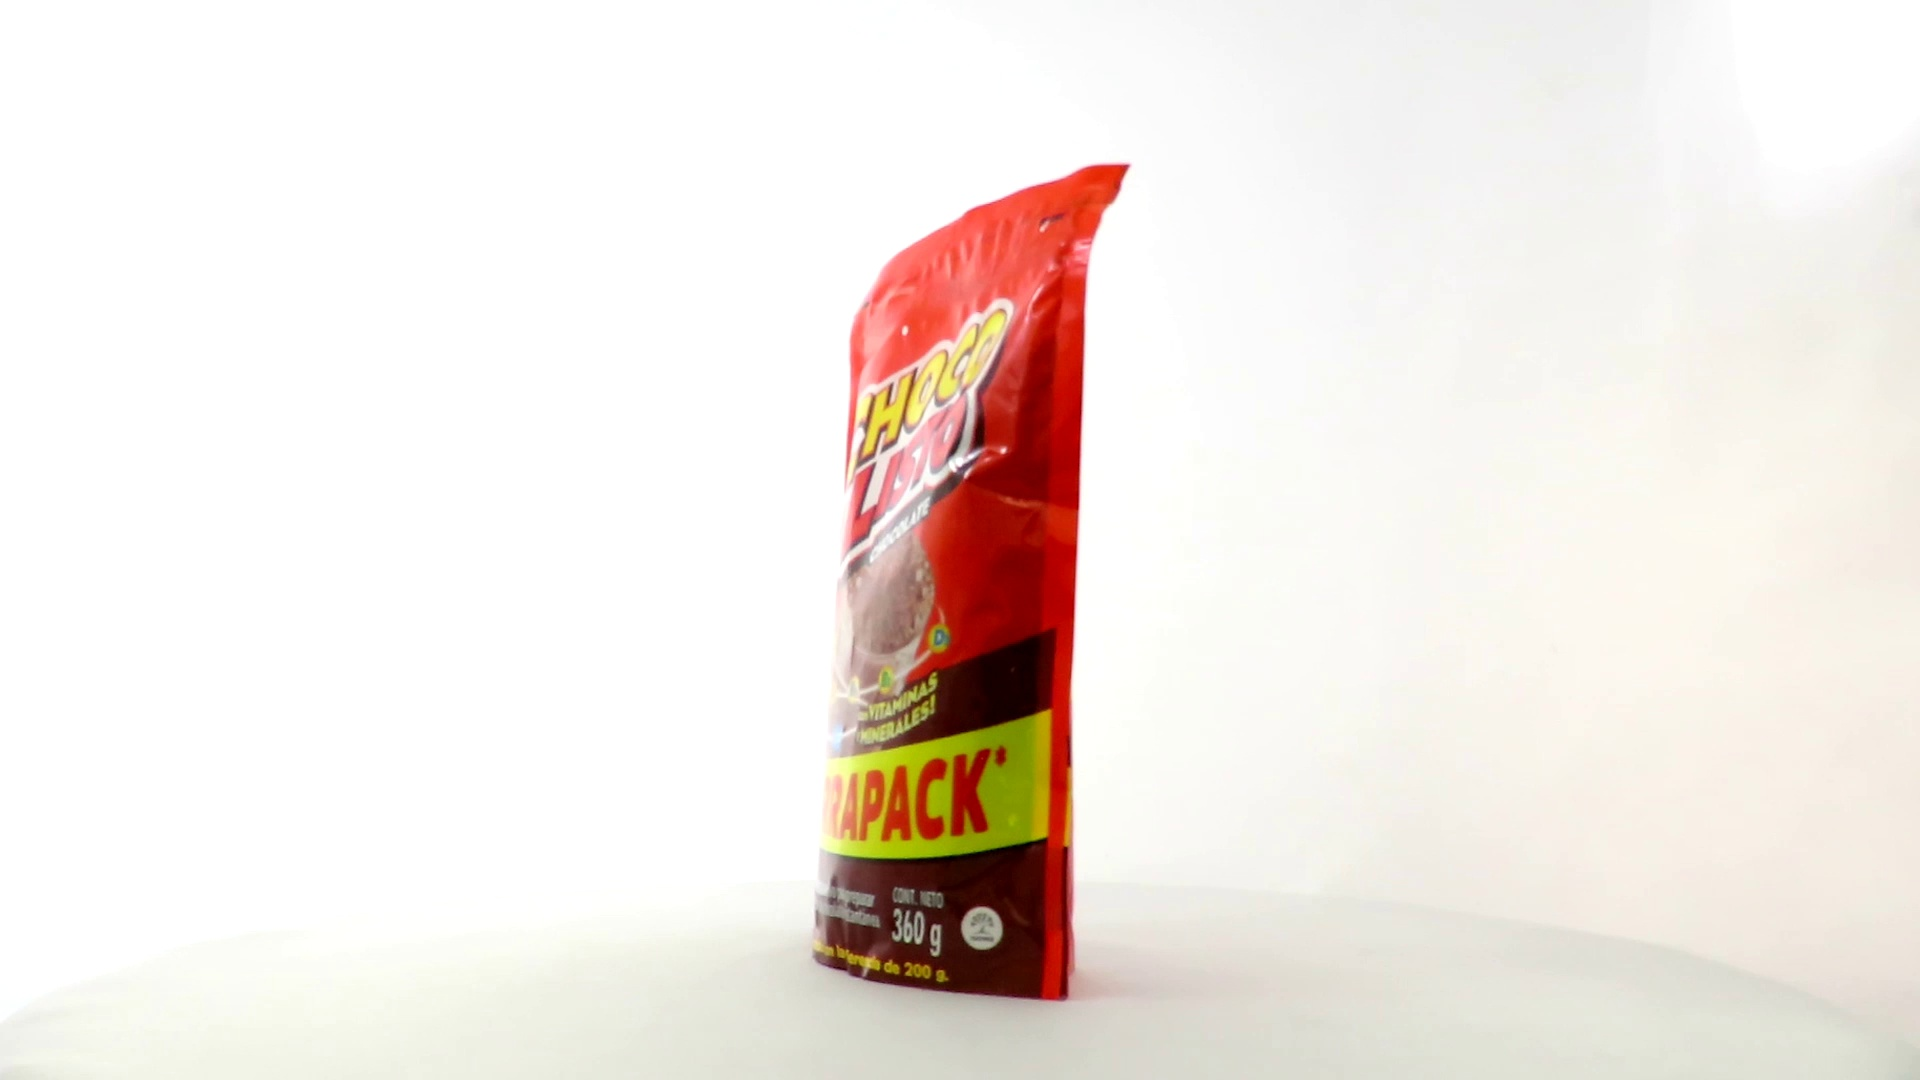COL0170103DYP36000: (807, 160, 1135, 1007)
